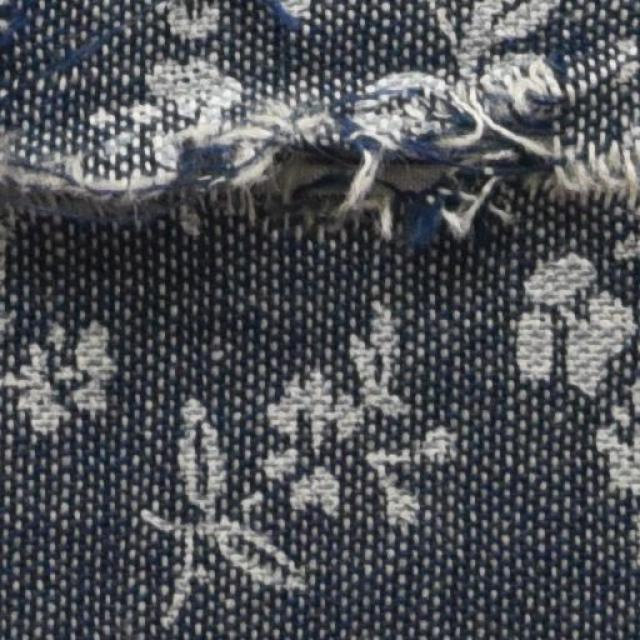Hole: (261, 144, 512, 192)
Snag: (0, 73, 569, 202), (218, 183, 522, 244), (549, 125, 639, 216)
